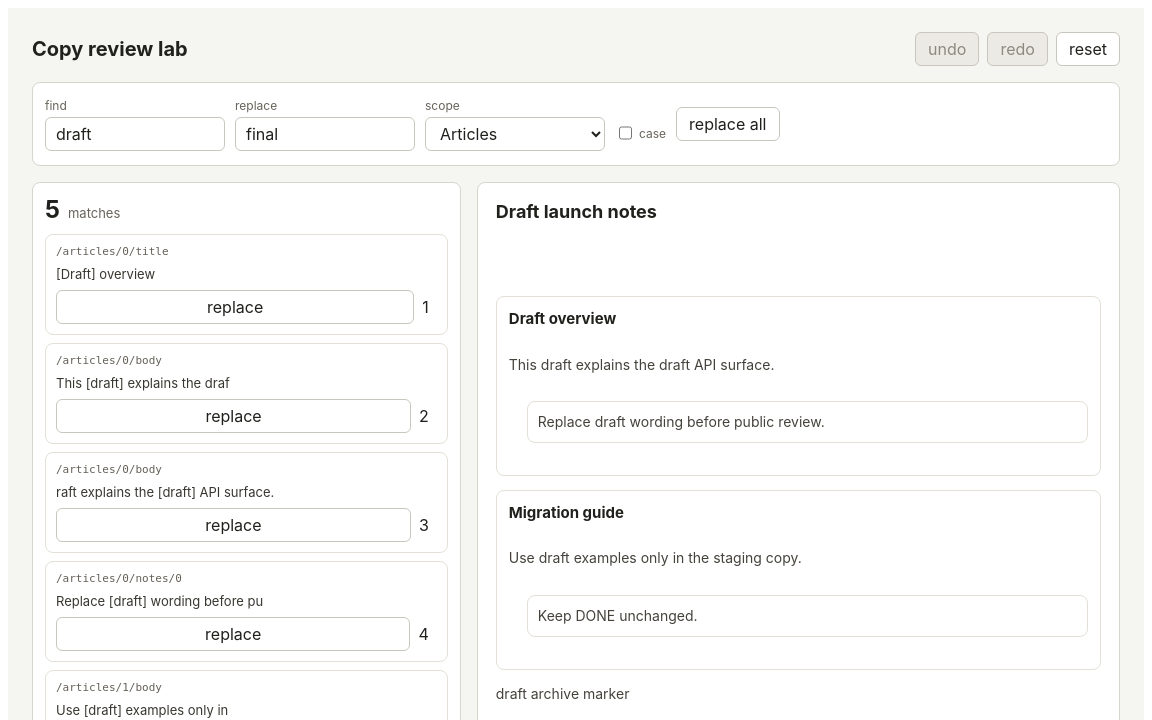
Scenario: copy review lab dogfood › empty search disables replace all through extension error state
Clear the field named "find text": (135, 134) x1=45 y1=116 x2=225 y2=150
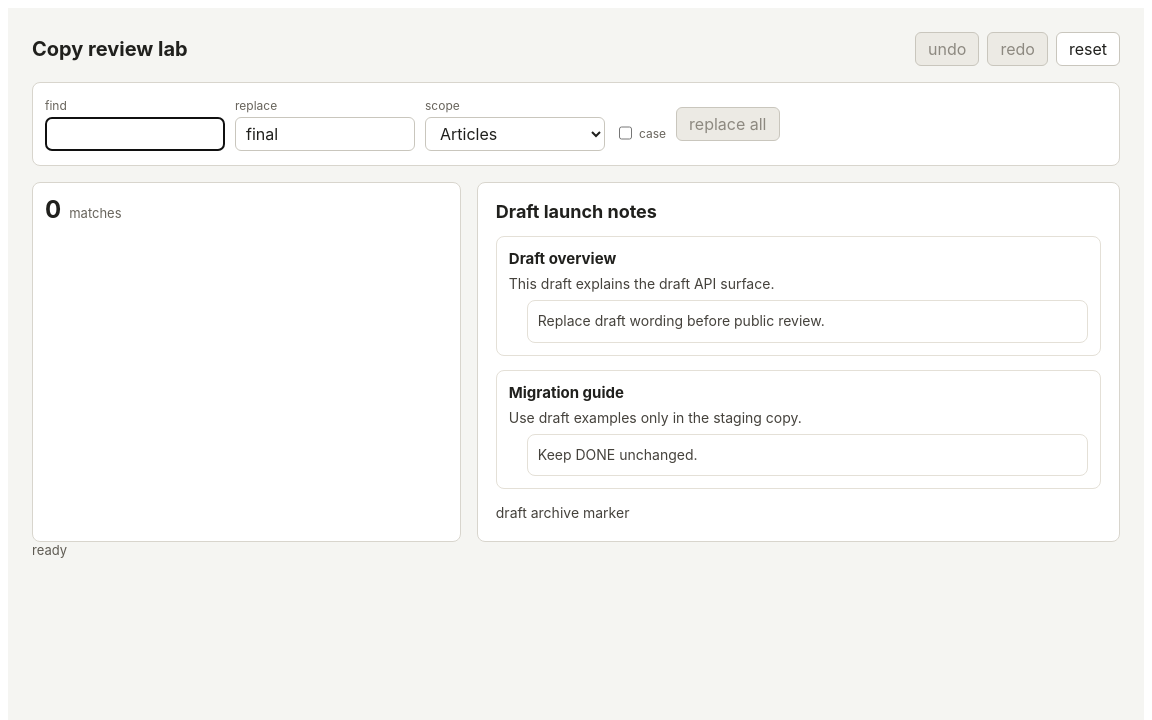
Now the button "replace all" is disabled, box x1=676 y1=107 x2=780 y2=141
Now the text "0" is shown, box x1=45 y1=195 x2=61 y2=224
